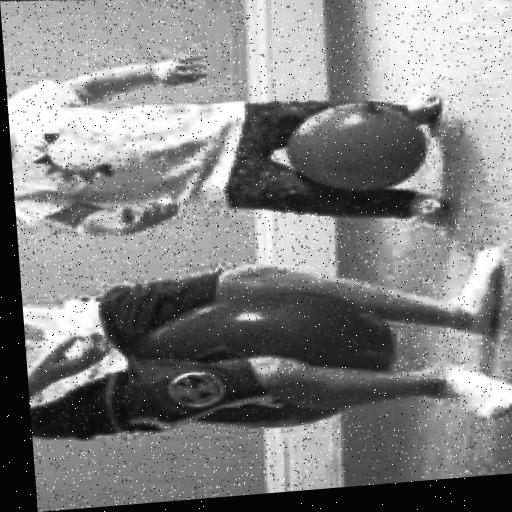balloon: (124, 275, 406, 440), (284, 88, 428, 195)
